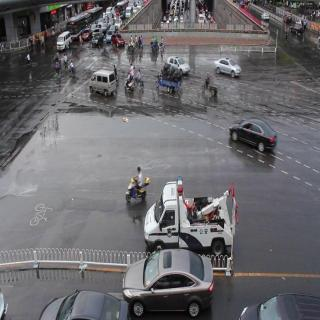BigCar: (67, 8, 91, 39)
Car: (141, 178, 241, 255), (123, 248, 221, 320), (35, 279, 134, 320), (237, 282, 320, 320), (226, 114, 281, 166), (89, 61, 119, 100), (217, 50, 244, 84), (165, 48, 188, 82), (56, 31, 75, 57), (288, 19, 306, 42), (112, 31, 124, 52), (92, 28, 105, 46)
